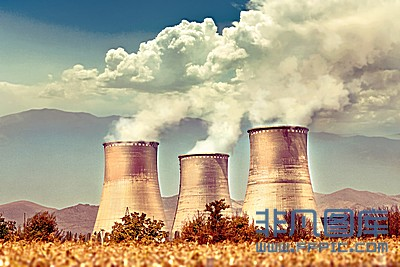dust: (245, 72, 348, 136), (95, 80, 187, 150), (176, 101, 243, 159)
